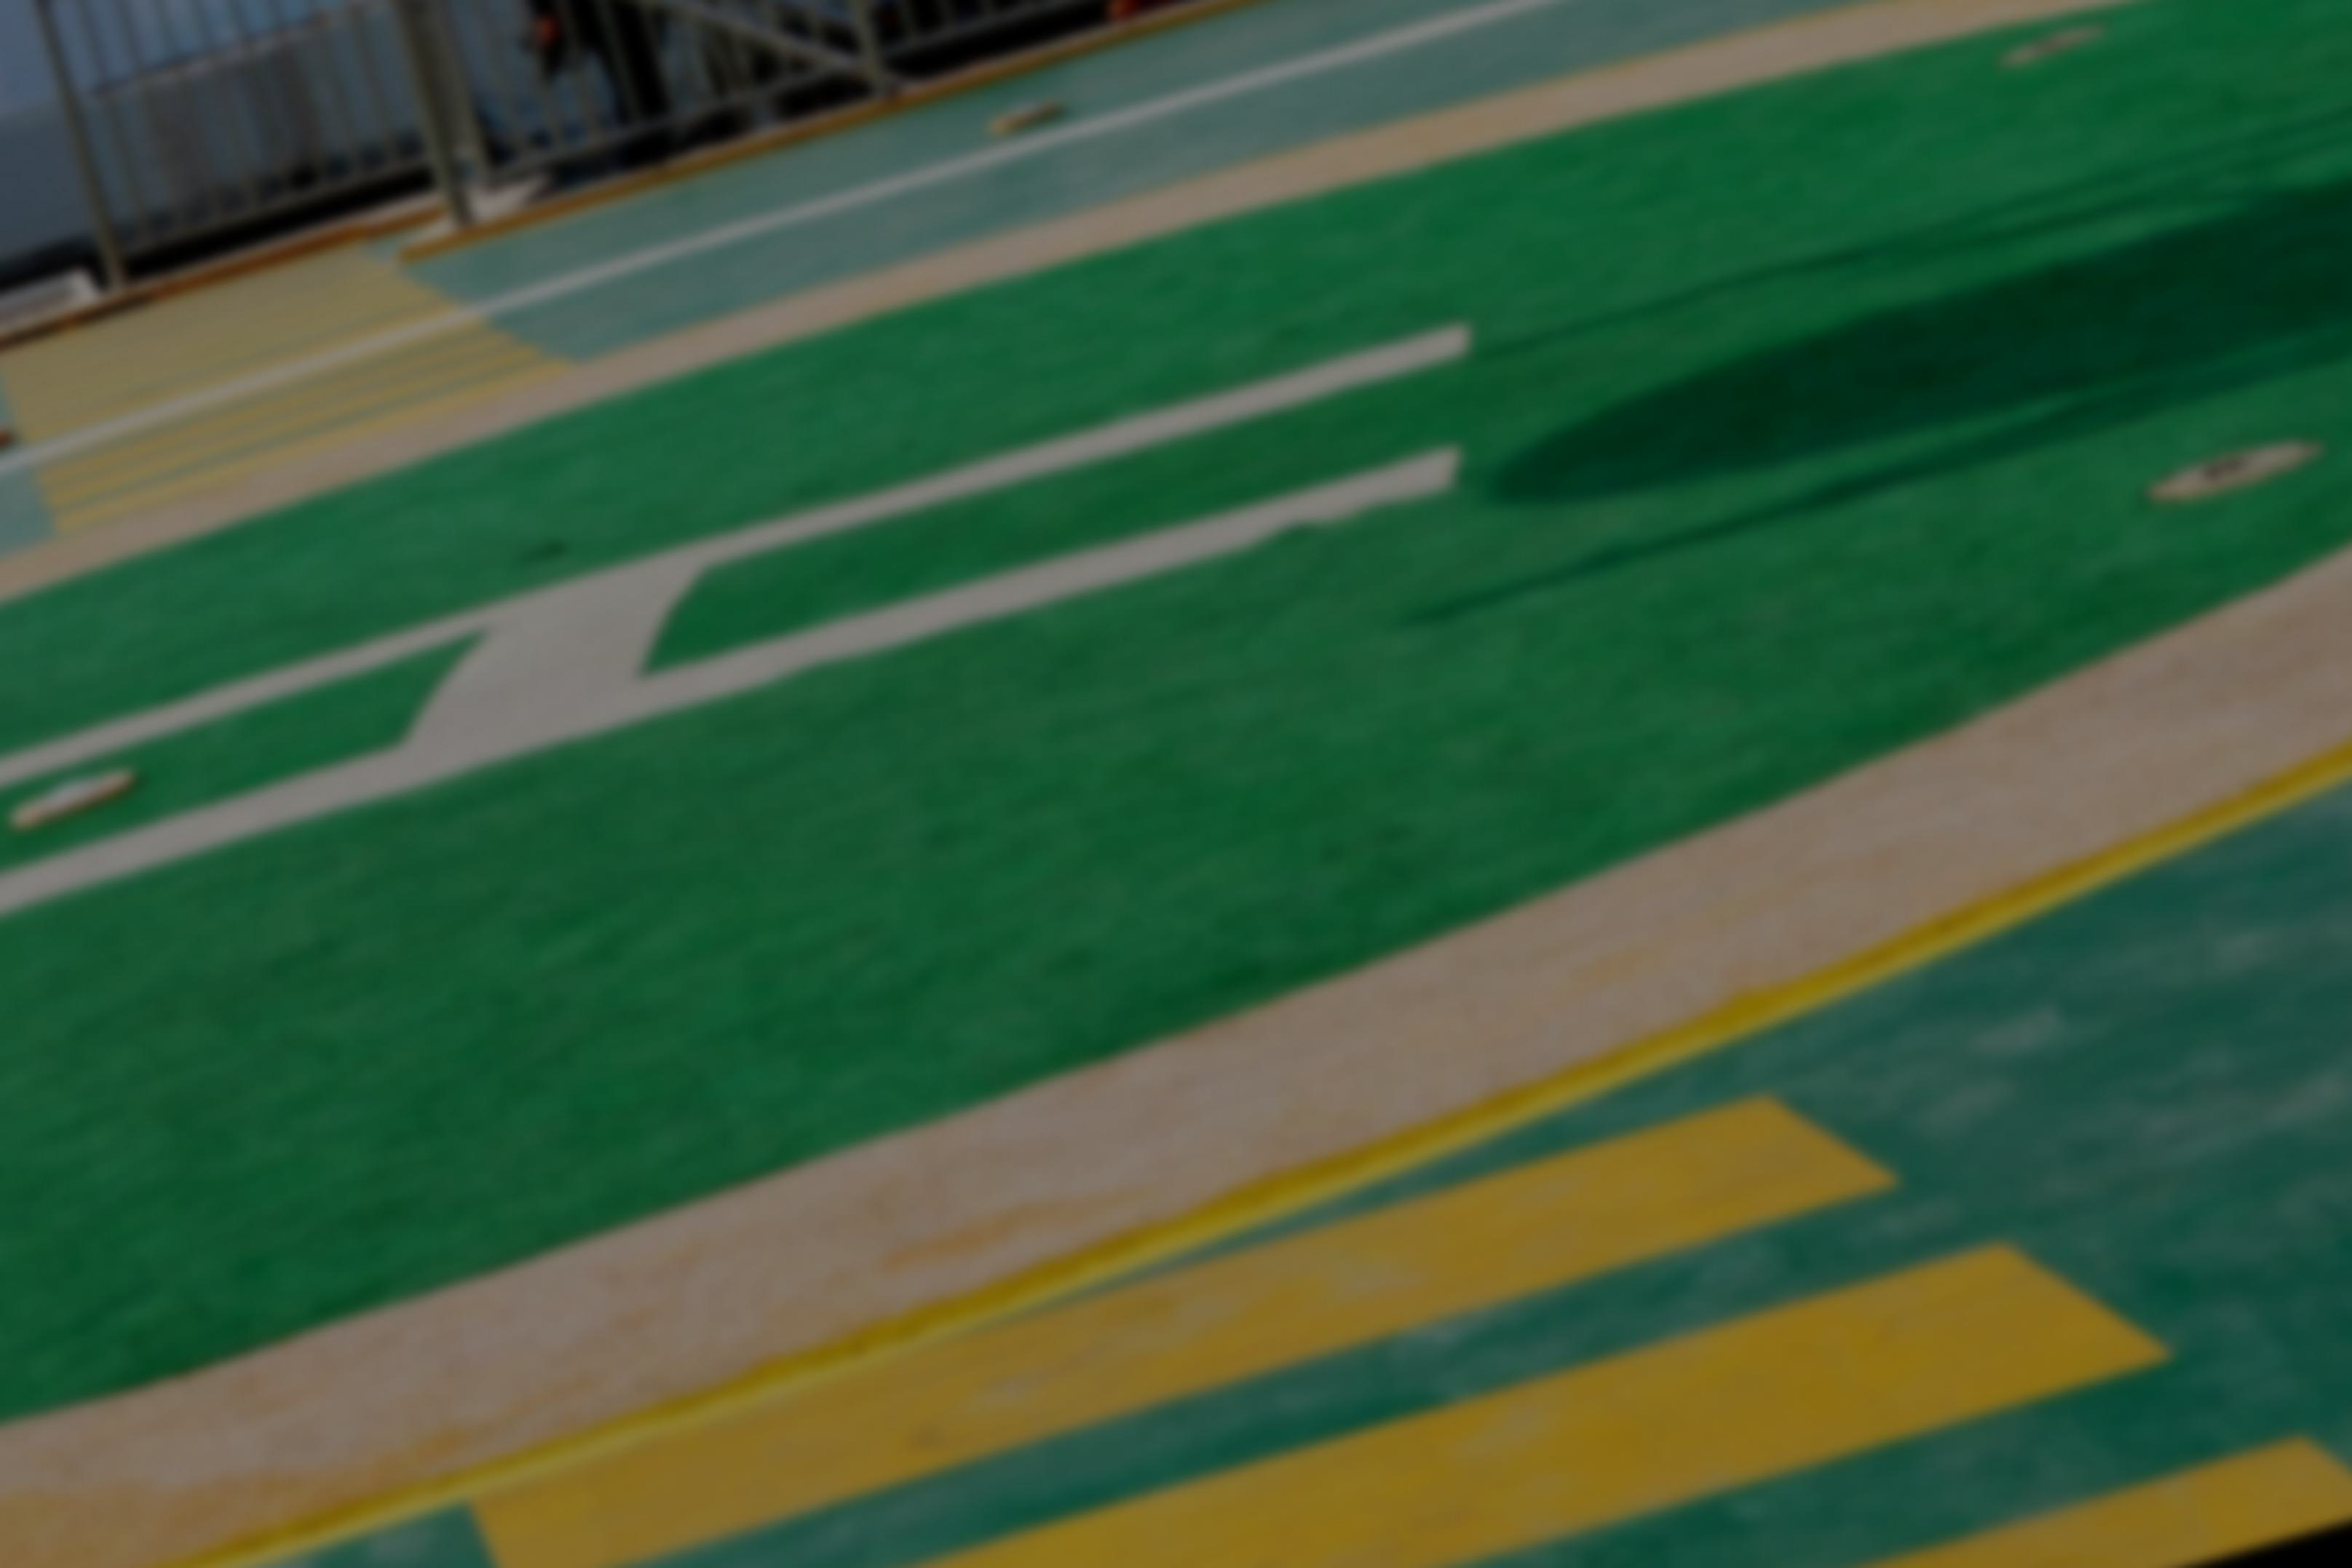Apron: (30, 9, 2343, 1474)
